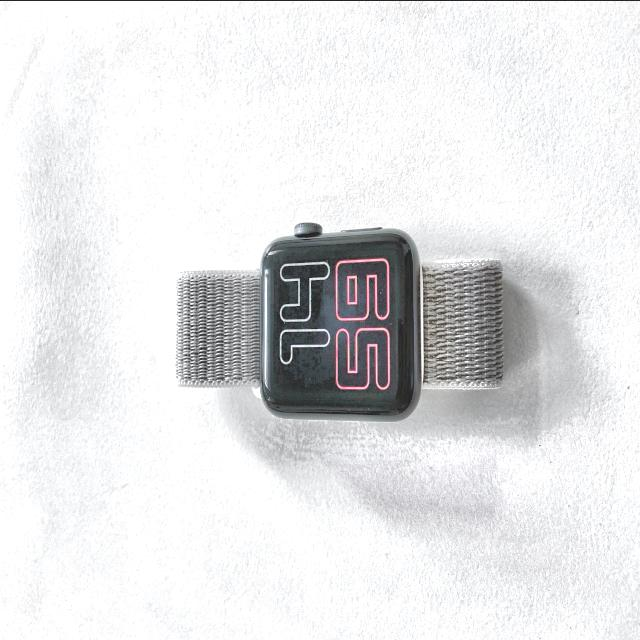Bluetooth headphones: (176, 223, 503, 419)
